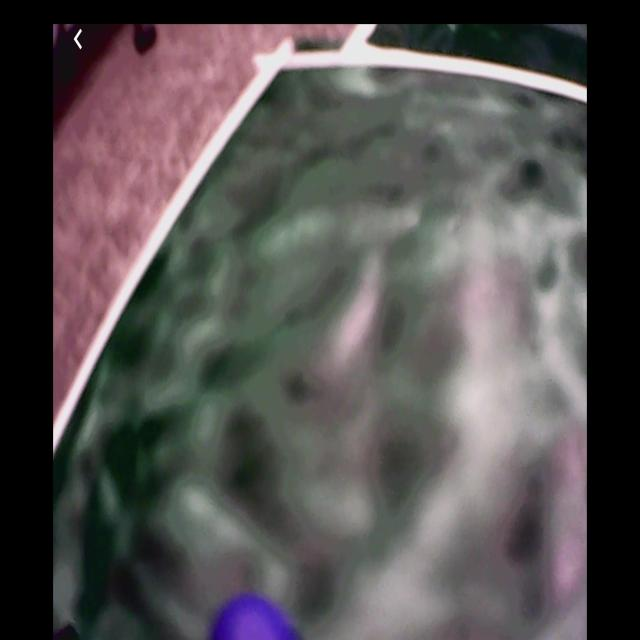ball: (211, 595, 295, 640)
